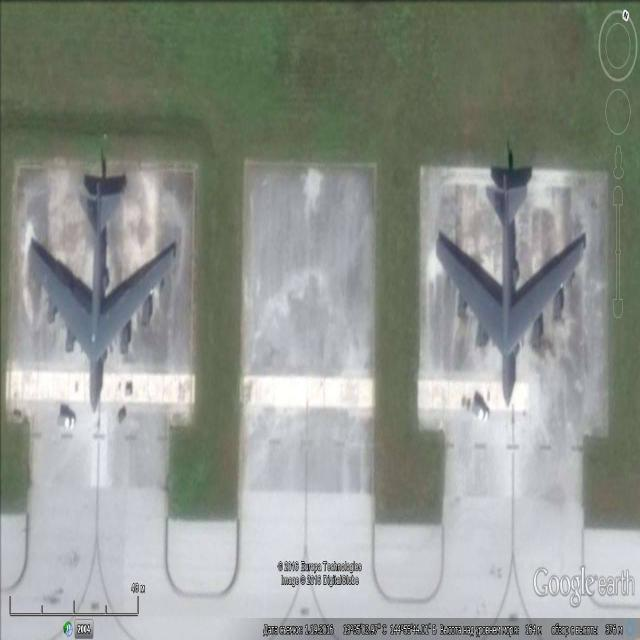MIL_Plane: (27, 0, 175, 219), (436, 0, 584, 215)
